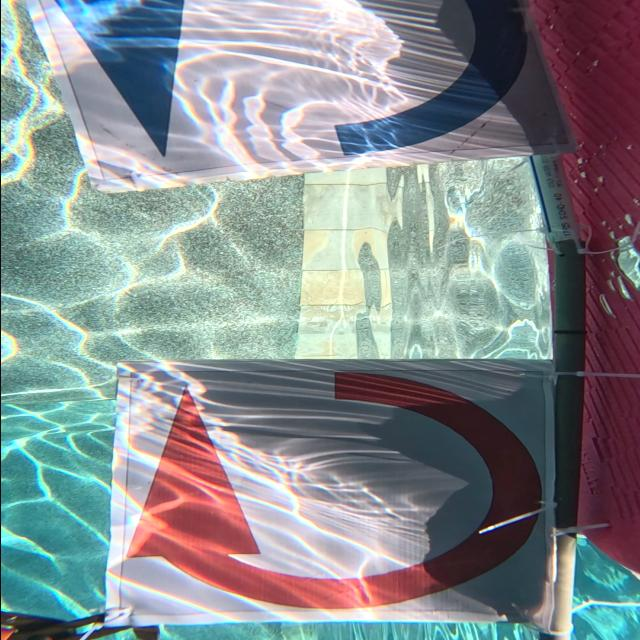blue_side: (68, 0, 547, 198)
red_side: (113, 363, 548, 618)
